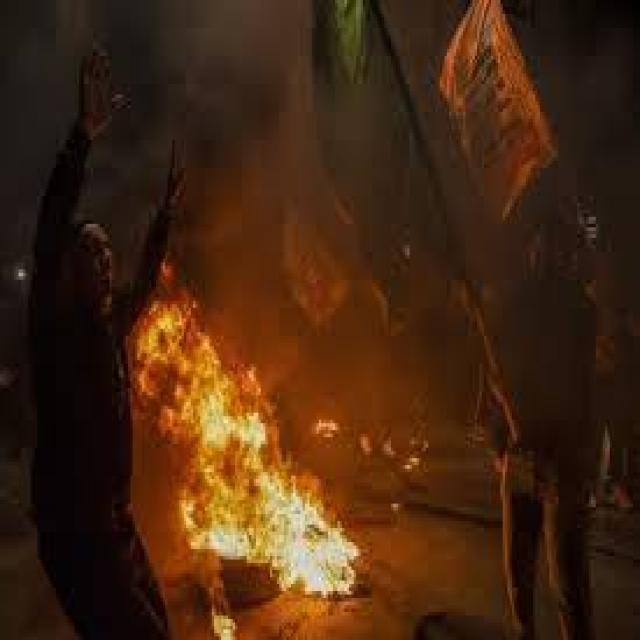Fire: (126, 257, 361, 640), (362, 421, 424, 514)
Smoke: (1, 3, 438, 195), (536, 2, 640, 381), (362, 198, 478, 414), (477, 152, 539, 395)
